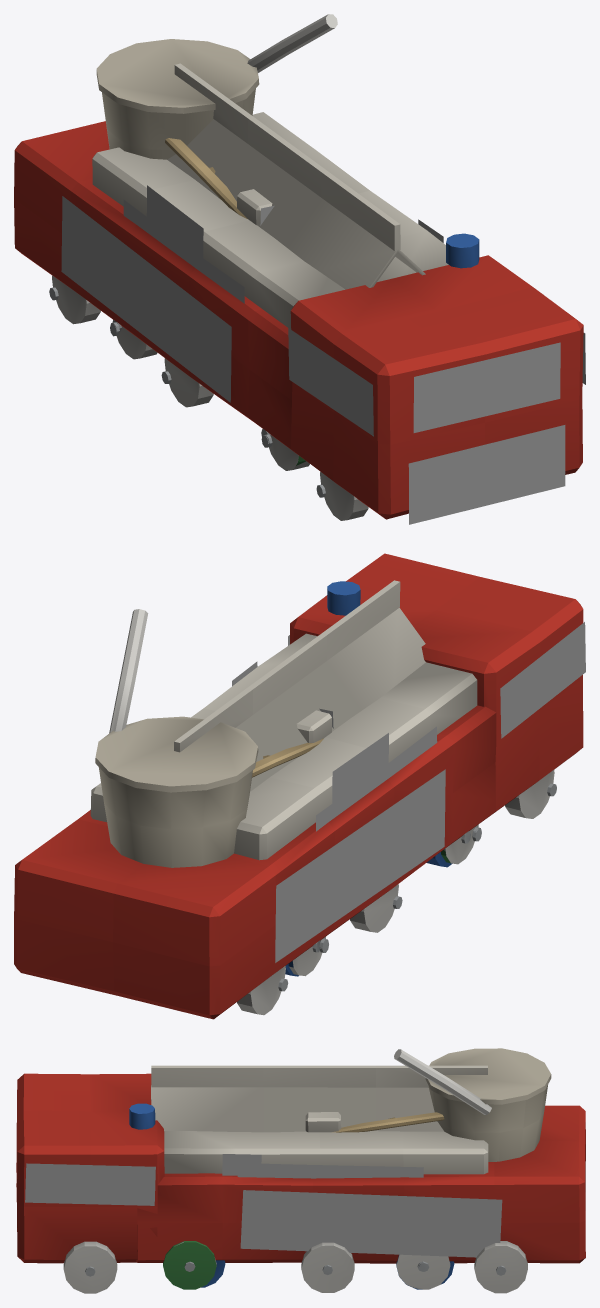
File: vehicles.glb
3 views of the same model, one above another, from view 1: azimuth 30°, elevation 25°; view 2: azimuth 150°, elevation 25°; view 3: azimuth 270°, elevation 25° (orthographic). The views are drawn at different scales.
Visible parts, largest first — view 1: fire_truck, car_van, car_taxi, car_sedan; view 2: fire_truck, car_van, car_taxi, car_sedan; view 3: fire_truck, car_van, car_taxi, car_sedan.
Part boxes in pixels (bbox=[...]): fire_truck: bbox=[14, 14, 585, 524]; car_van: bbox=[92, 63, 448, 436]; car_taxi: bbox=[110, 189, 309, 470]; car_sedan: bbox=[111, 199, 306, 465]; fire_truck: bbox=[14, 553, 585, 1019]; car_van: bbox=[90, 580, 477, 976]; car_taxi: bbox=[289, 708, 481, 976]; car_sedan: bbox=[288, 758, 481, 967]; fire_truck: bbox=[16, 1048, 585, 1293]; car_van: bbox=[151, 1065, 488, 1287]; car_taxi: bbox=[176, 1112, 450, 1289]; car_sedan: bbox=[163, 1163, 423, 1289].
Bounding box in the file's own units: 0.4859 × 0.6027 × 1.32.
